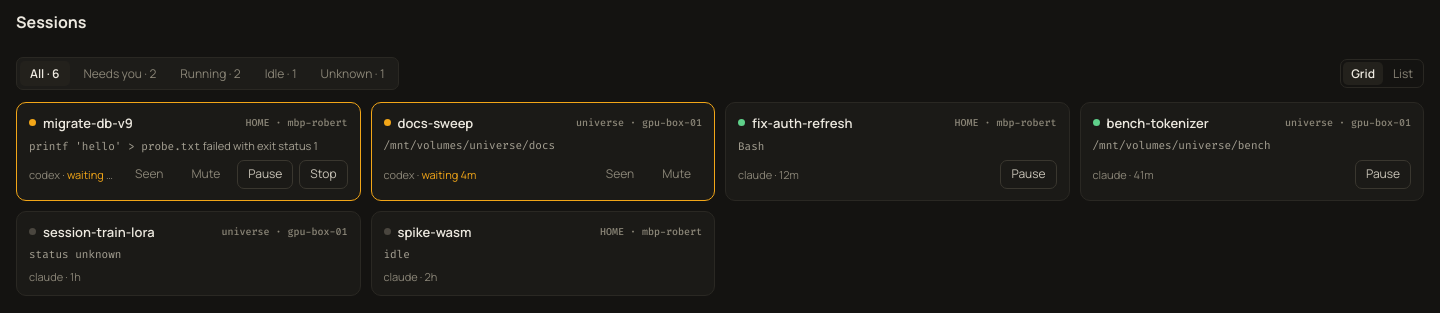
Test: the session list › disables the button while the stop is in flight
Click the button "Stop".
click(323, 174)  # box left=299, top=160, right=348, bottom=189
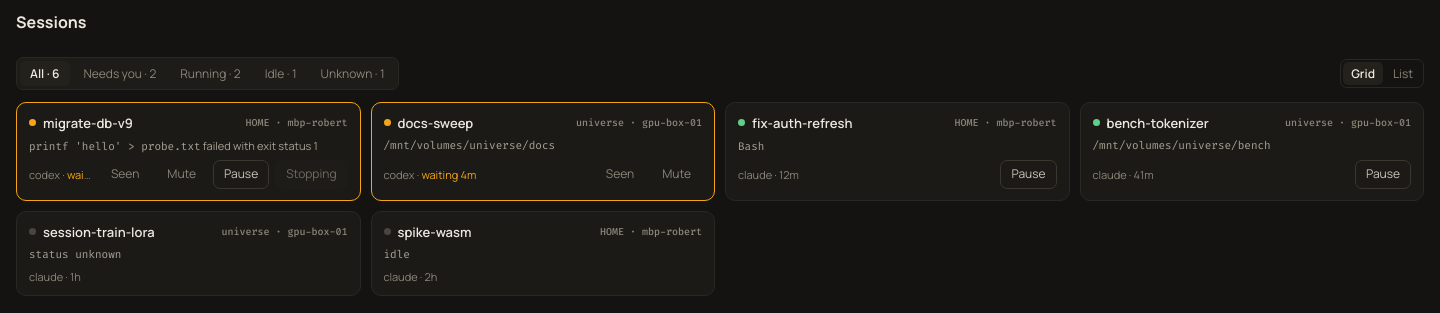
Expected: the button "Stopping" is disabled, left=275, top=160, right=348, bottom=189
Expected: the button "Stopping" is shown, left=275, top=160, right=348, bottom=189
